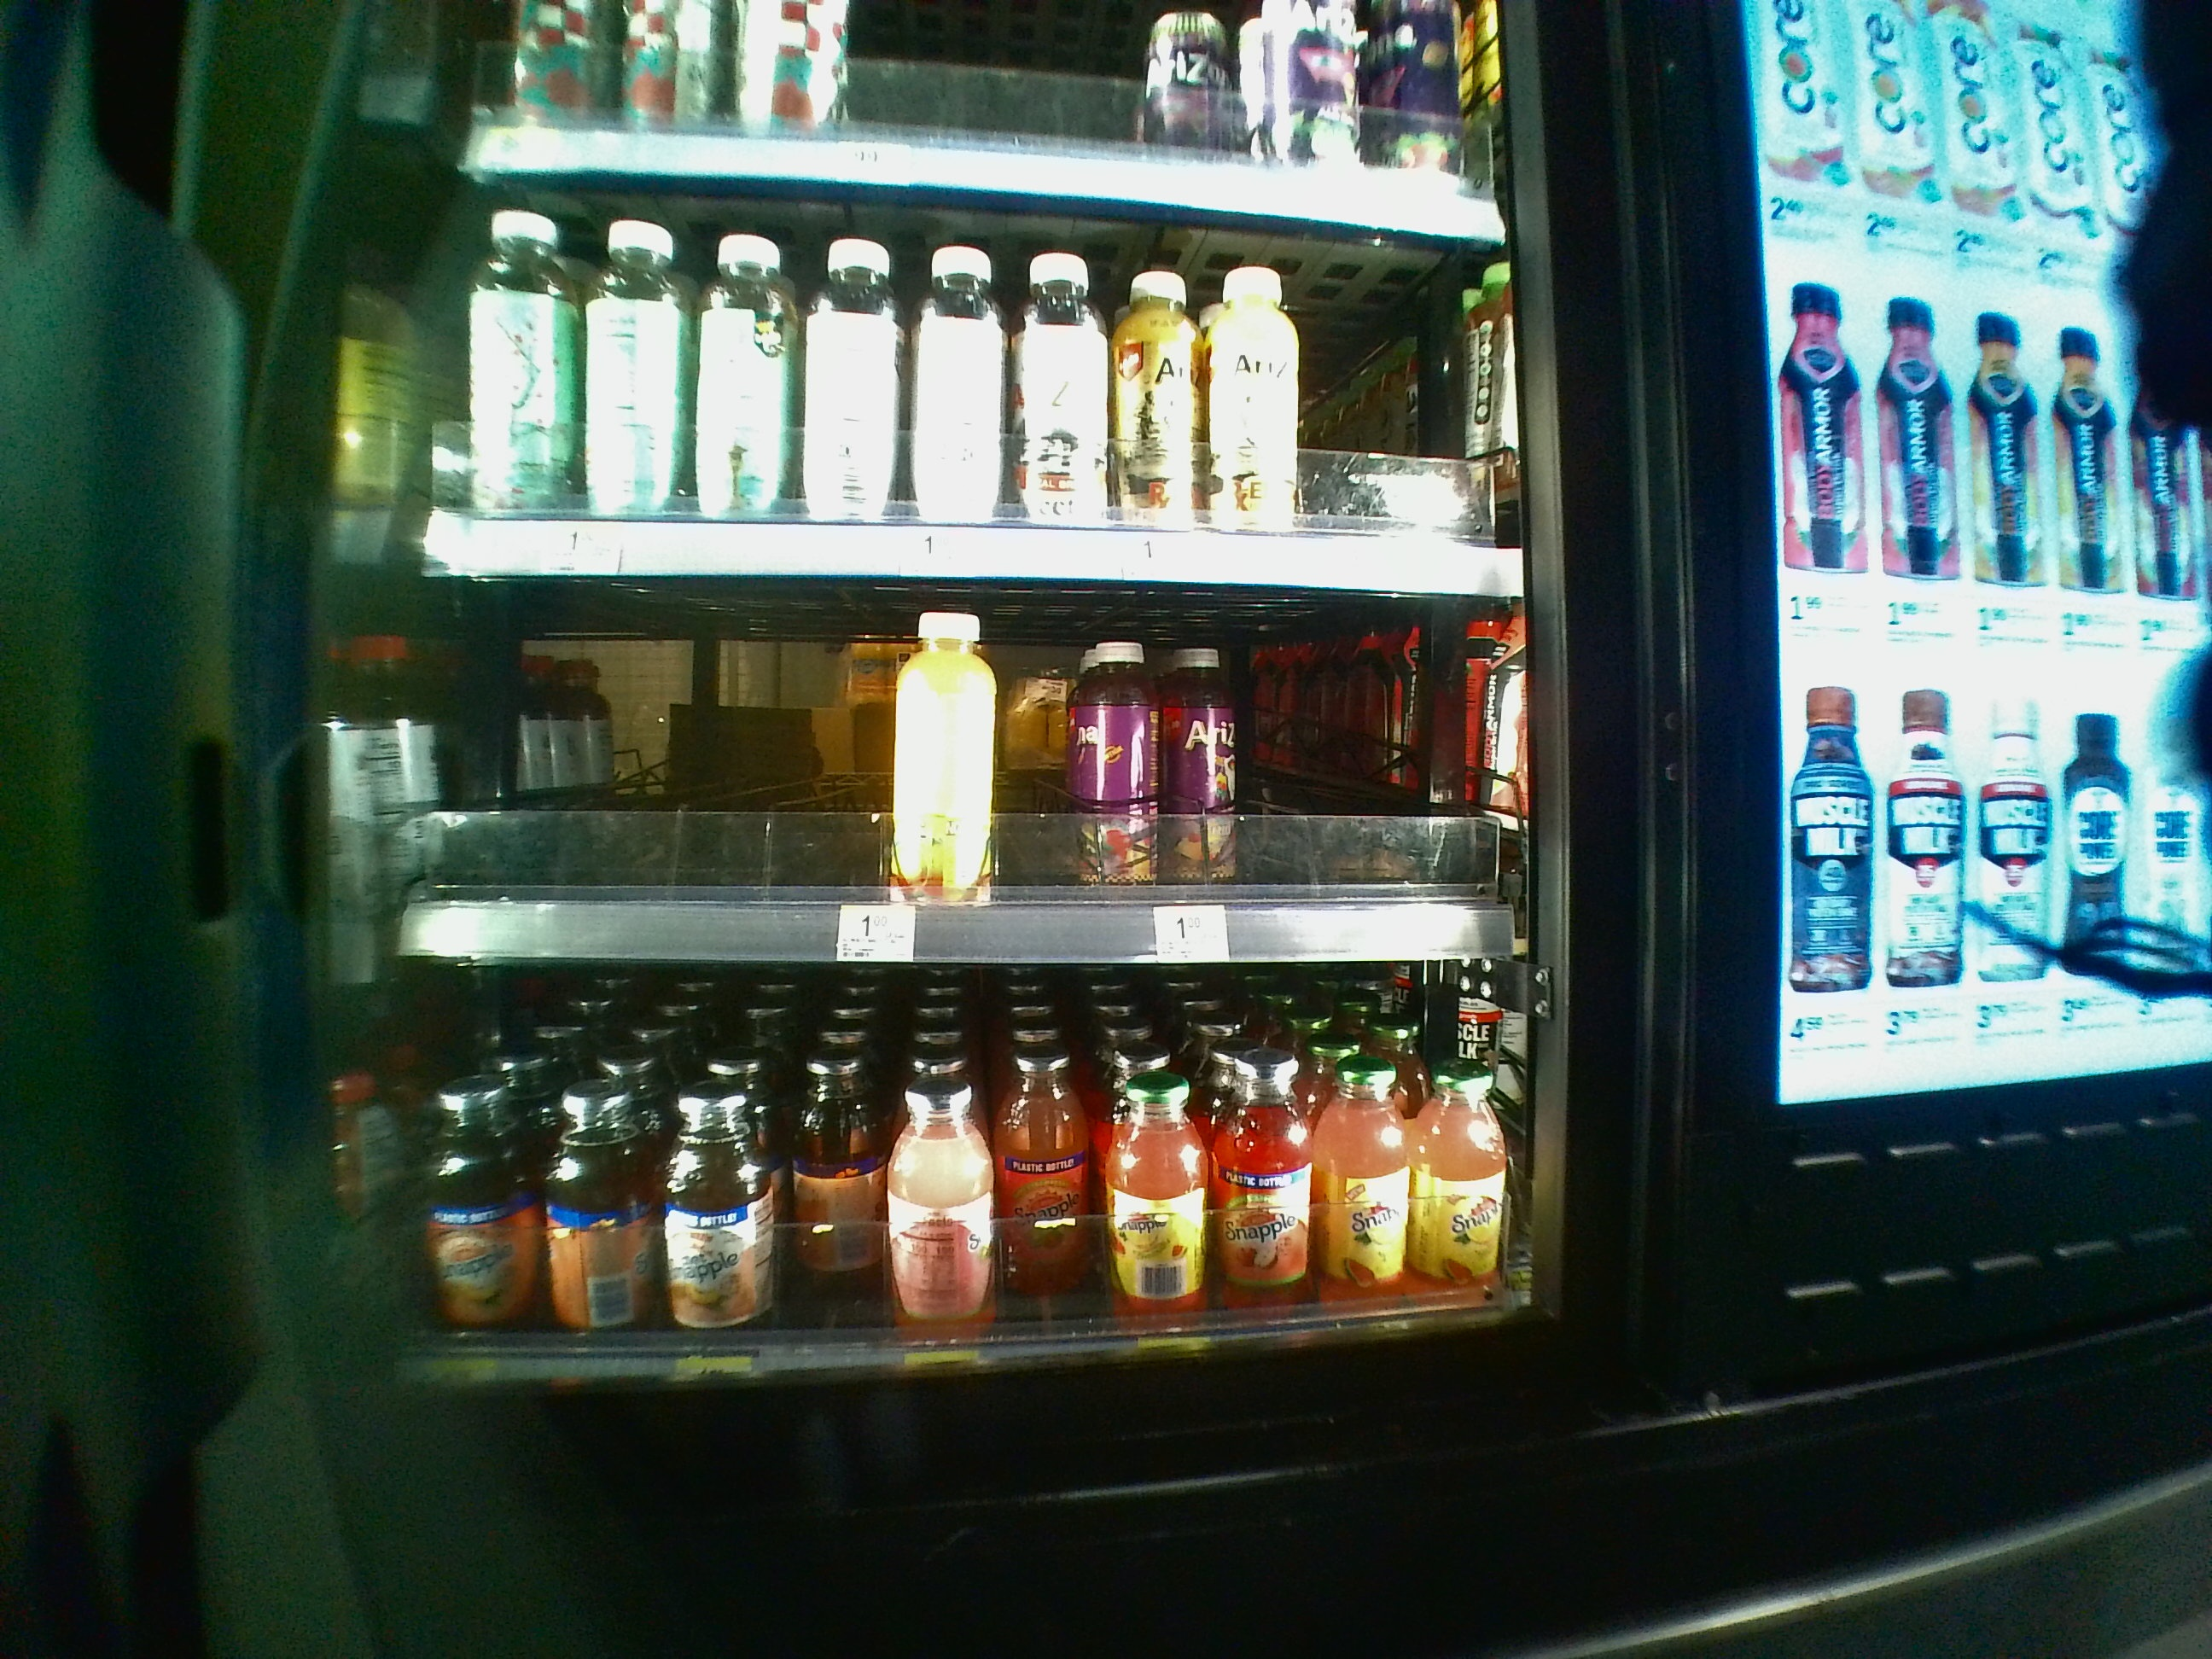shelf: (395, 967, 1538, 1406), (399, 575, 1531, 964)
